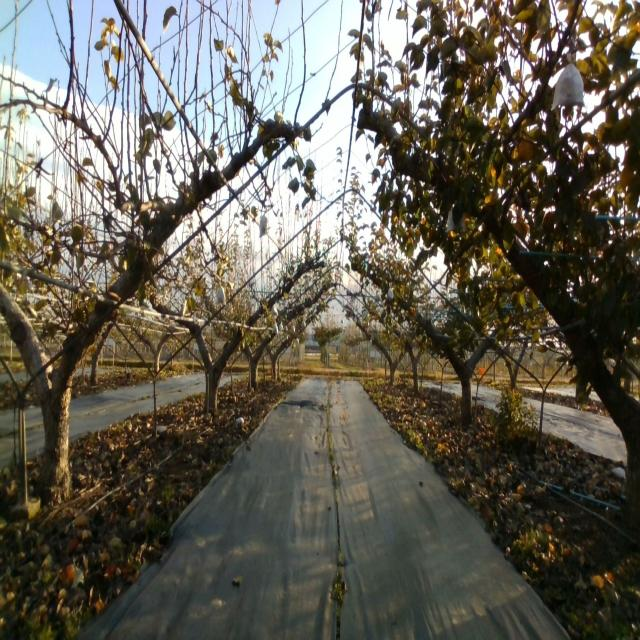pearbags: (550, 52, 586, 111), (214, 283, 227, 306)
